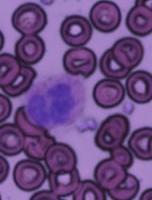N: (24, 73, 87, 130)
